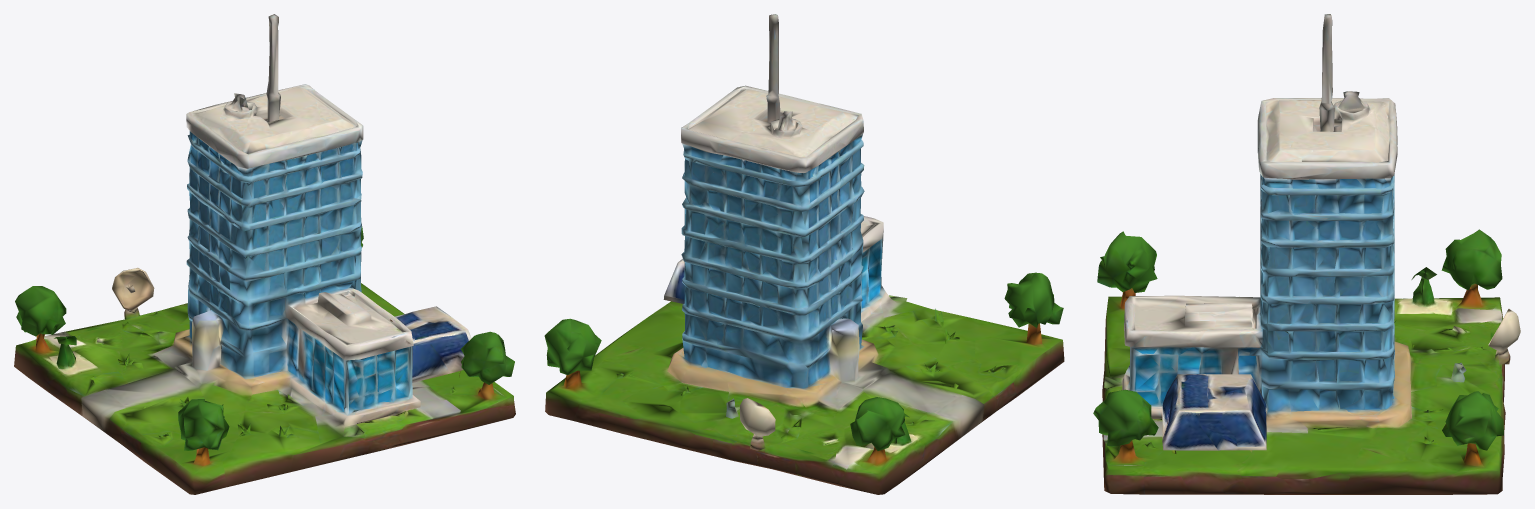
Rendered from prop_tech.glb.
The picture shows the model from 3 angles, left to right: view 1: azimuth 30°, elevation 25°; view 2: azimuth 150°, elevation 25°; view 3: azimuth 270°, elevation 25°; orthographic projection. The views are drawn at different scales.
Parts seen in each view (by area): view 1: tripo_node_2bb93fd5-bd8e-4176-b6ef-2c64cce449c9; view 2: tripo_node_2bb93fd5-bd8e-4176-b6ef-2c64cce449c9; view 3: tripo_node_2bb93fd5-bd8e-4176-b6ef-2c64cce449c9.
Part boxes in pixels (bbox=[...]): tripo_node_2bb93fd5-bd8e-4176-b6ef-2c64cce449c9: bbox=[14, 14, 515, 494]; tripo_node_2bb93fd5-bd8e-4176-b6ef-2c64cce449c9: bbox=[544, 14, 1064, 494]; tripo_node_2bb93fd5-bd8e-4176-b6ef-2c64cce449c9: bbox=[1093, 14, 1520, 494].
Bounding box in the file's own units: 0.9569 × 0.9779 × 0.9366.
1 material, 1 textured.
